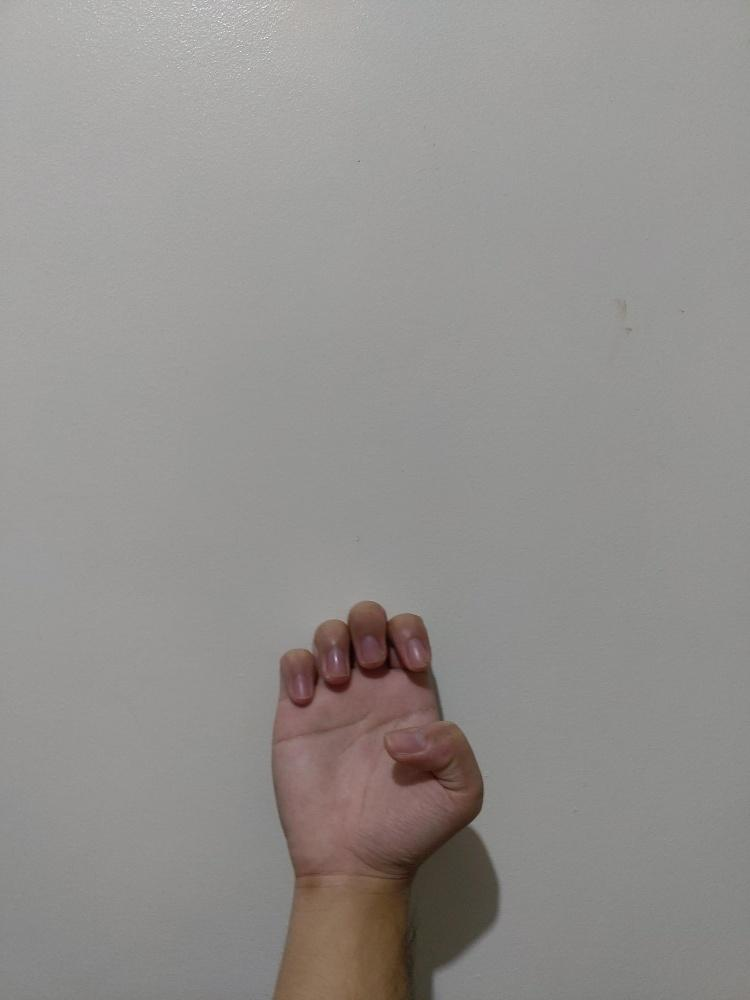e: (268, 600, 486, 885)
